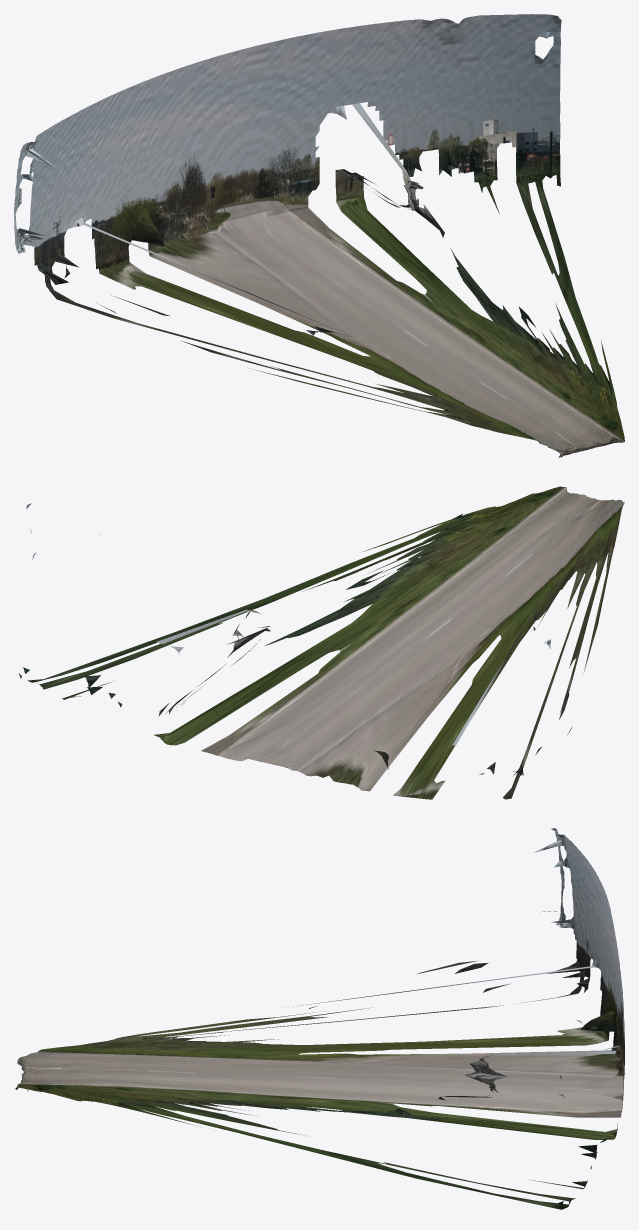
The picture shows the model from 3 angles, top to bottom: view 1: azimuth 30°, elevation 25°; view 2: azimuth 150°, elevation 25°; view 3: azimuth 270°, elevation 25°; orthographic projection. The views are drawn at different scales.
Visible parts, largest first — view 1: defaultobject; view 2: defaultobject; view 3: defaultobject.
Part boxes in pixels (bbox=[...]): defaultobject: bbox=[14, 14, 624, 457]; defaultobject: bbox=[19, 486, 624, 799]; defaultobject: bbox=[14, 828, 624, 1209].
Bounding box in the file's own units: 41.09 × 13.45 × 44.61.
Materials: 1 (1 with a texture image).
